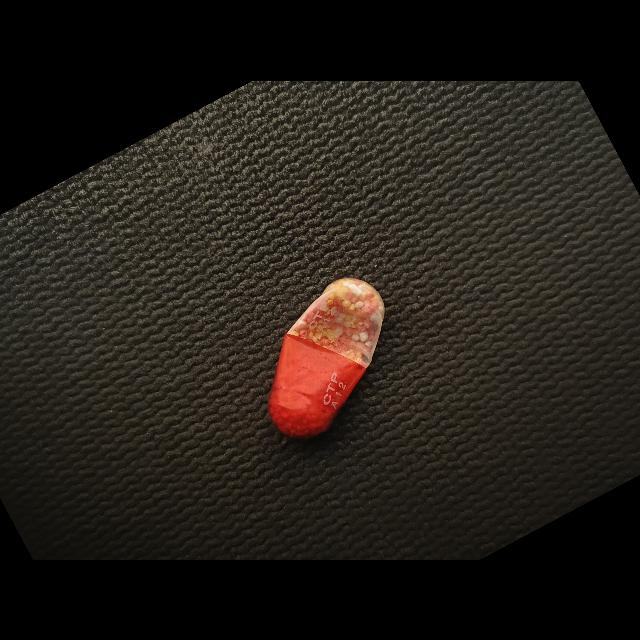Defective Capsule: (268, 277, 385, 438)
